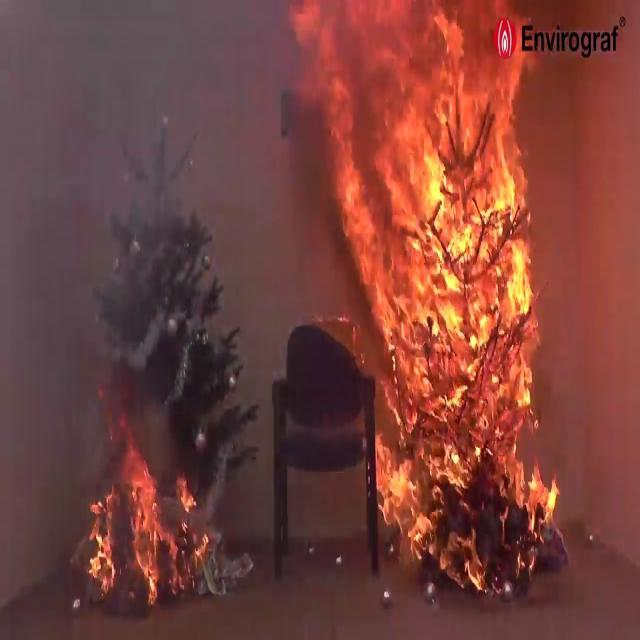Fire: (326, 6, 568, 600), (78, 428, 202, 606)
Smoke: (0, 2, 293, 390)
